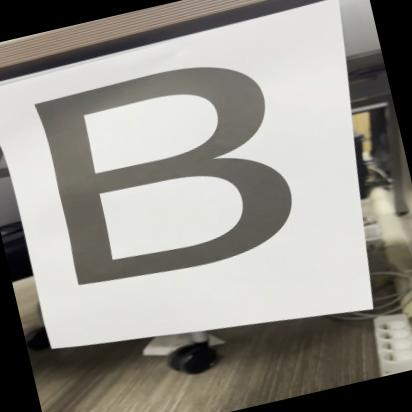seat: (10, 39, 327, 308)
